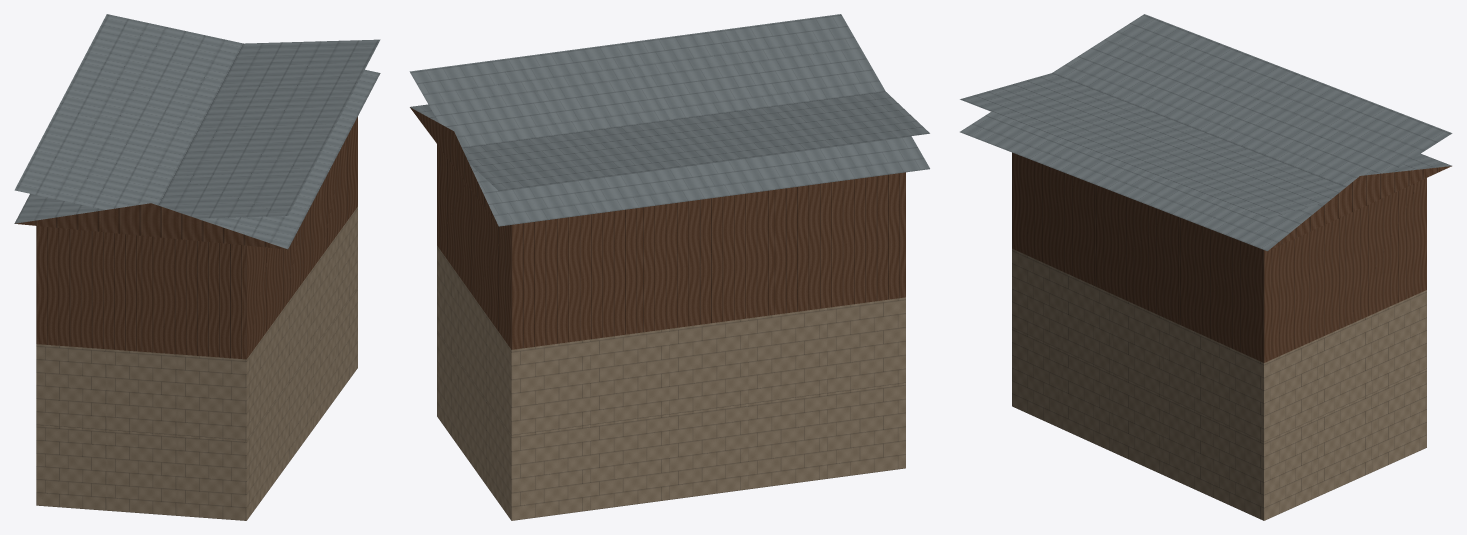
Rendered from bld_c12_41_473.gltf.
3 renders of one model, left to right at view 1: azimuth 30°, elevation 25°; view 2: azimuth 150°, elevation 25°; view 3: azimuth 270°, elevation 25°, orthographic. The views are drawn at different scales.
Parts seen in each view (by area): view 1: bld_c12_41_473; view 2: bld_c12_41_473; view 3: bld_c12_41_473.
Boxes of the visible parts, left/top/right/bottom form: bld_c12_41_473: left=14, top=14, right=380, bottom=520; bld_c12_41_473: left=409, top=14, right=929, bottom=520; bld_c12_41_473: left=960, top=14, right=1452, bottom=520.
Size of the model in its own units: 13.42 by 9.6 by 13.67.
Materials: 4 (4 with a texture image).
